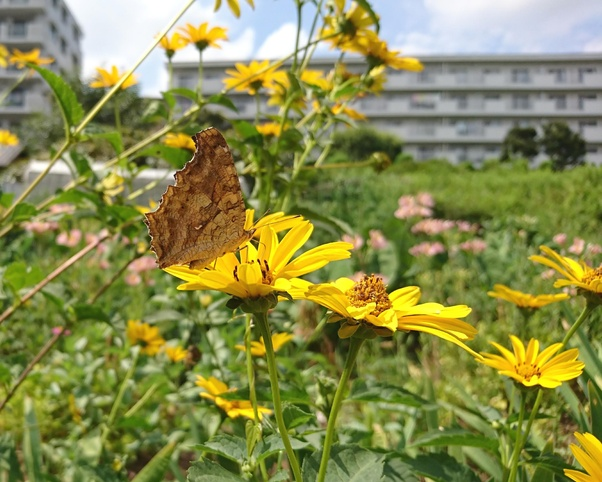Argyreus hyperbius: (139, 117, 306, 275)
butterfly: (141, 119, 308, 277)
